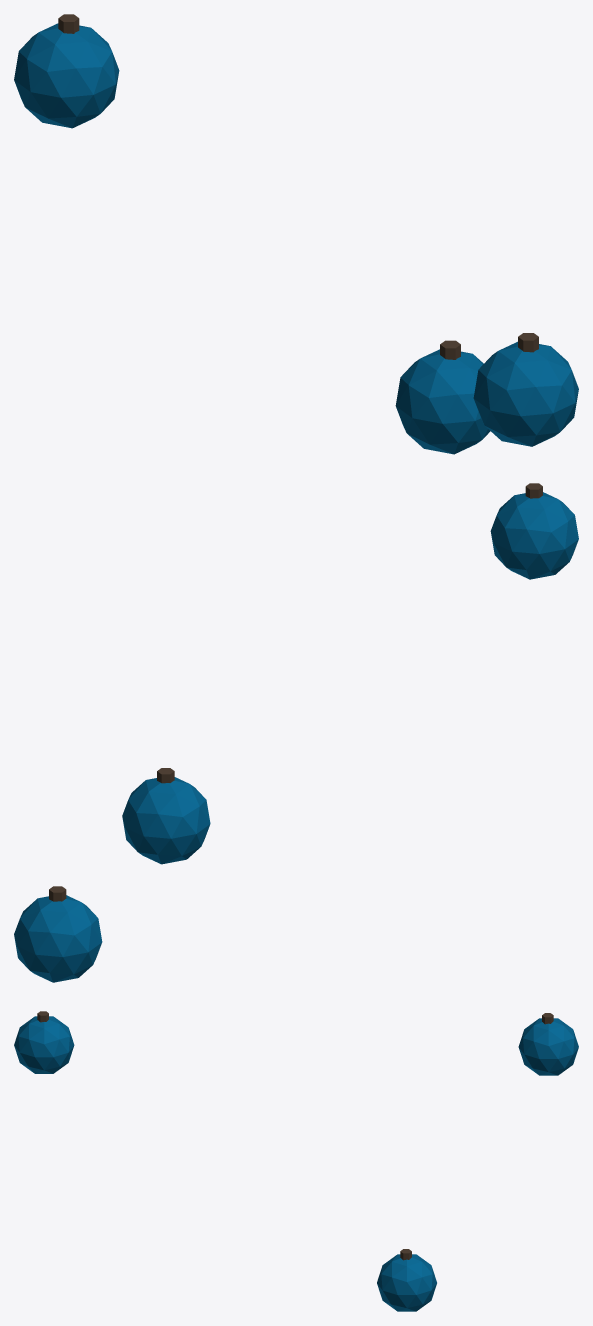
Rendered from findornament1.gltf.
3 views of the same model, one above another, from view 1: azimuth 30°, elevation 25°; view 2: azimuth 150°, elevation 25°; view 3: azimuth 270°, elevation 25° (orthographic). The views are drawn at different scales.
Parts seen in each view (by area): view 1: ornament_Icosphere.008, ornament_Icosphere.044, ornament_Icosphere.020; view 2: ornament_Icosphere.020, ornament_Icosphere.044, ornament_Icosphere.008; view 3: ornament_Icosphere.008, ornament_Icosphere.020, ornament_Icosphere.044.
Part boxes in pixels (left/top/right/bottom): ornament_Icosphere.008: left=14, top=23, right=119, bottom=128; ornament_Icosphere.044: left=473, top=341, right=578, bottom=446; ornament_Icosphere.020: left=395, top=349, right=490, bottom=454; ornament_Icosphere.020: left=14, top=895, right=102, bottom=982; ornament_Icosphere.044: left=490, top=492, right=578, bottom=579; ornament_Icosphere.008: left=122, top=777, right=210, bottom=864; ornament_Icosphere.008: left=518, top=1018, right=578, bottom=1075; ornament_Icosphere.020: left=377, top=1254, right=436, bottom=1311; ornament_Icosphere.044: left=14, top=1016, right=74, bottom=1073.
Size of the model in its own units: 6.87 by 7.83 by 17.42.
